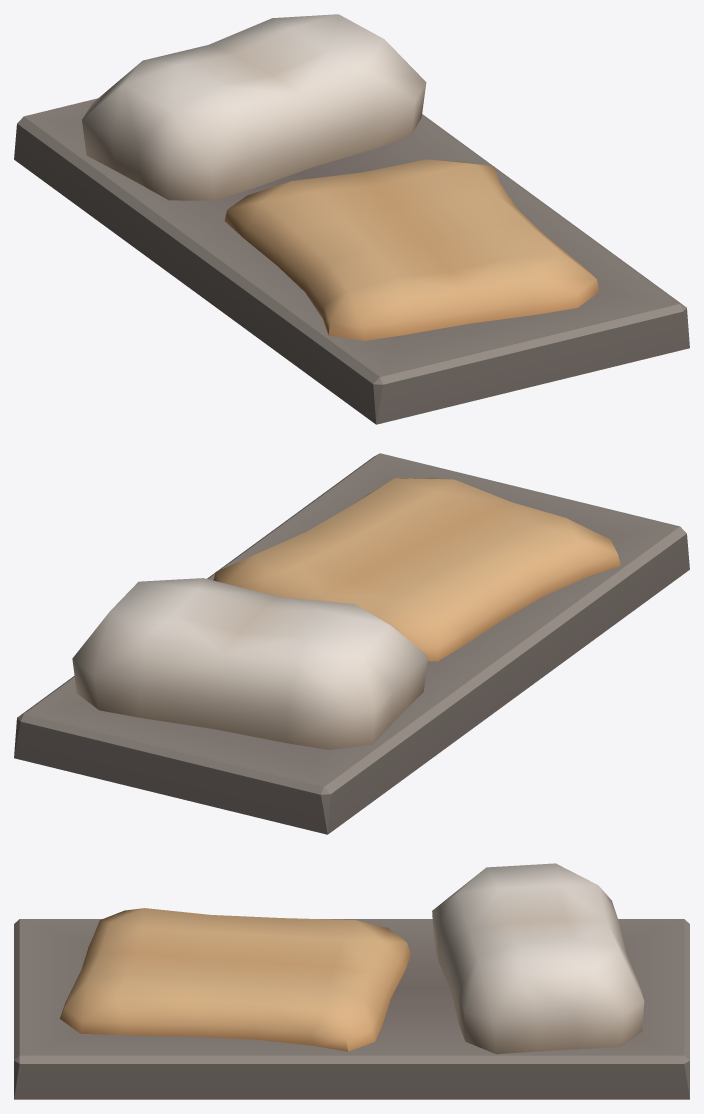
File: bed_floor.gltf
3 views of the same model, one above another, from view 1: azimuth 30°, elevation 25°; view 2: azimuth 150°, elevation 25°; view 3: azimuth 270°, elevation 25° (orthographic). The views are drawn at different scales.
Visible parts, largest first — view 1: bed_floor; view 2: bed_floor; view 3: bed_floor.
Part boxes in pixels (x1,y1,x2,y2): bed_floor: (14, 14, 689, 424); bed_floor: (14, 453, 689, 834); bed_floor: (14, 863, 689, 1099).
Bounding box in the file's own units: 1.5 × 0.5626 × 3.
Materials: 1 (1 with a texture image).
